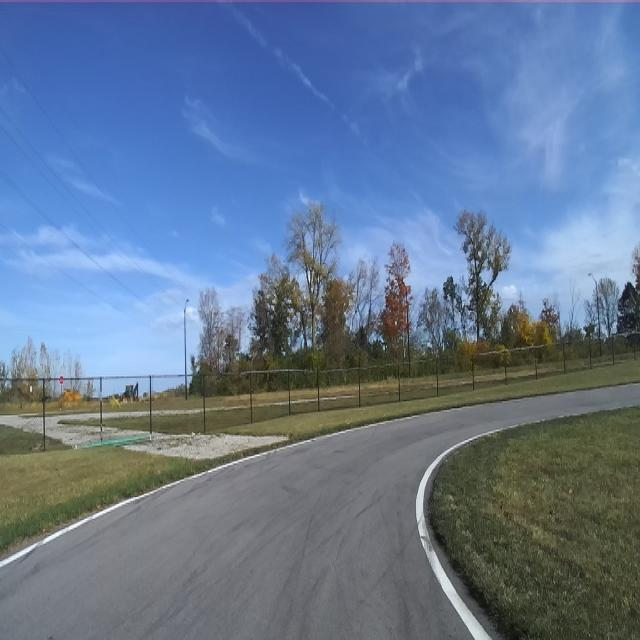white-line: (0, 412, 430, 568), (416, 423, 520, 639)
